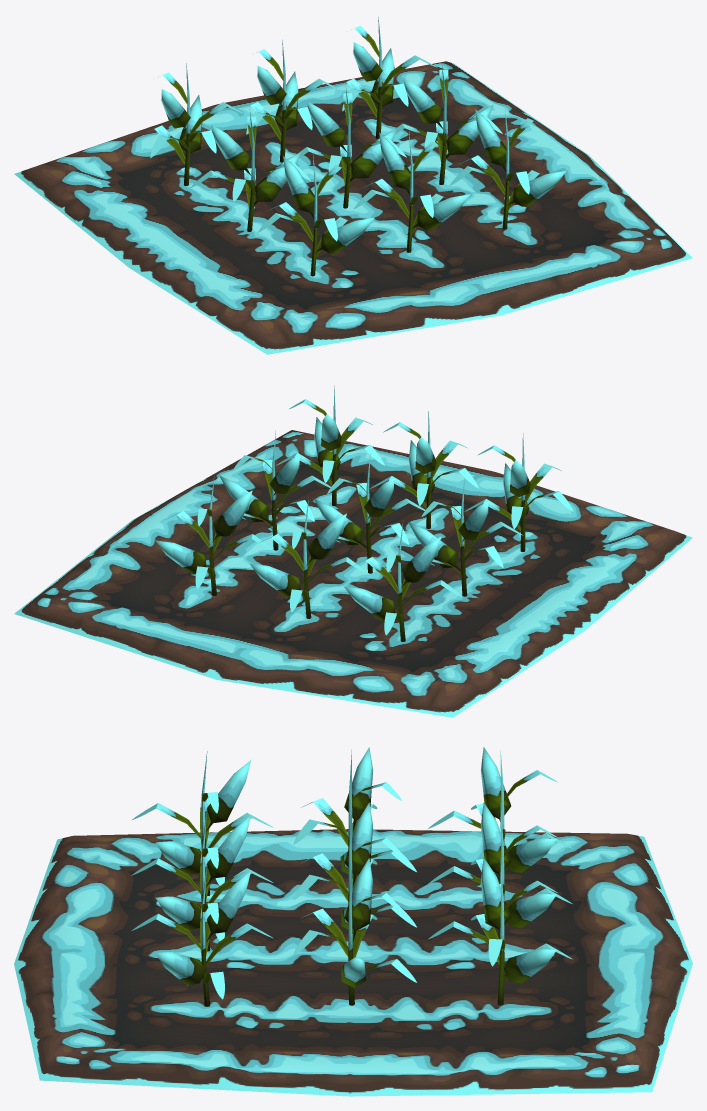
Rendered from Paddy3.FBX.
The picture shows the model from 3 angles, top to bottom: view 1: azimuth 30°, elevation 25°; view 2: azimuth 150°, elevation 25°; view 3: azimuth 270°, elevation 25°; orthographic projection. The views are drawn at different scales.
Parts seen in each view (by area): view 1: Line1572, Object334; view 2: Line1572, Object334; view 3: Line1572, Object334.
Part boxes in pixels (left/top/right/bottom): Line1572: left=14, top=61, right=692, bottom=354; Object334: left=144, top=17, right=566, bottom=276; Line1572: left=14, top=430, right=692, bottom=717; Object334: left=155, top=385, right=573, bottom=641; Line1572: left=14, top=829, right=692, bottom=1096; Object334: left=131, top=747, right=572, bottom=1006.
Size of the model in its own units: 274 by 74 by 296.
Materials: 2 (2 with a texture image).
